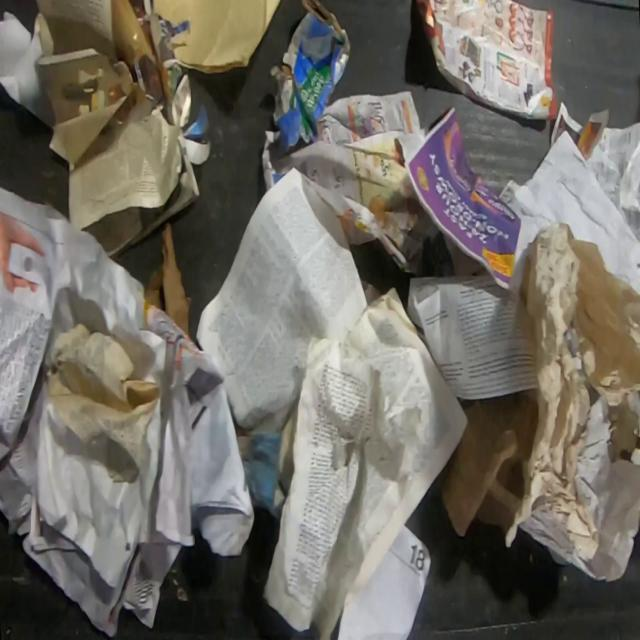cardboard: (268, 0, 353, 160), (144, 223, 192, 339)
